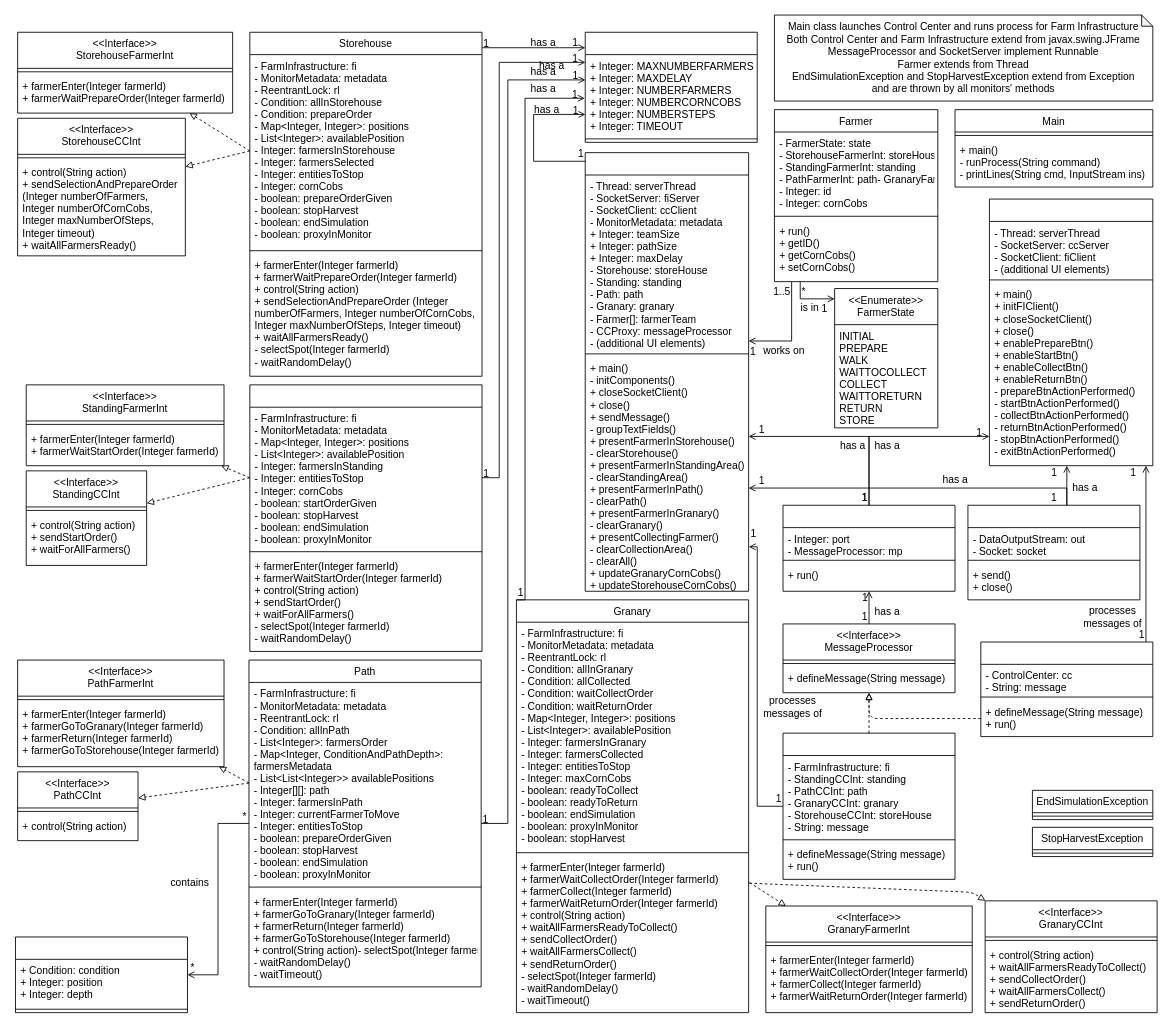
This 1172x1030 diagram has some shape labels left out. The shapes that lost their labels are listed below. From the top down, each one's box as (x1, y1, x2, y2) in pixels, then its label:
(584, 31, 757, 142): MonitorMetadata
(989, 198, 1153, 466): Control Center
(584, 152, 749, 591): Farm Infrastructure
(249, 384, 482, 651): Standing Area
(782, 504, 955, 591): SocketServer
(967, 504, 1140, 600): SocketClient
(980, 641, 1153, 737): CCMessageProcessor
(782, 732, 955, 879): CCProxy
(15, 936, 187, 1013): ConditionAndPathDepth
